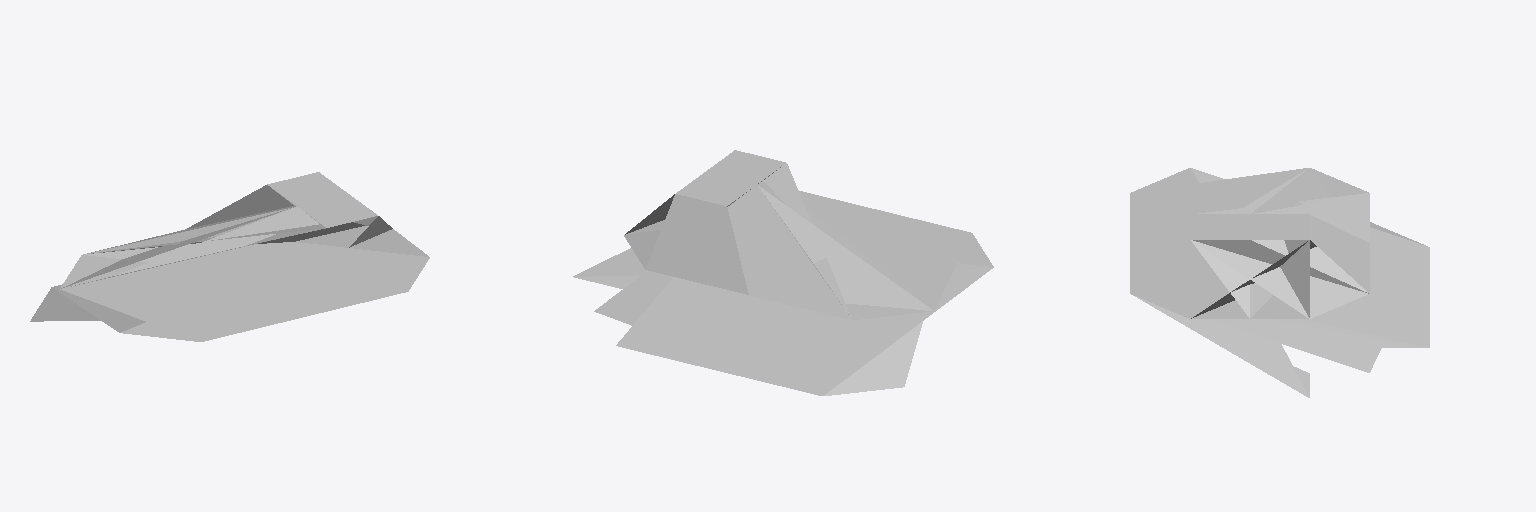
Rendered from chr_man.obj.
3 views of the same model, side by side, from view 1: azimuth 30°, elevation 25°; view 2: azimuth 150°, elevation 25°; view 3: azimuth 270°, elevation 25° (orthographic).
Bounding box in the file's own units: 7 × 2 × 5.